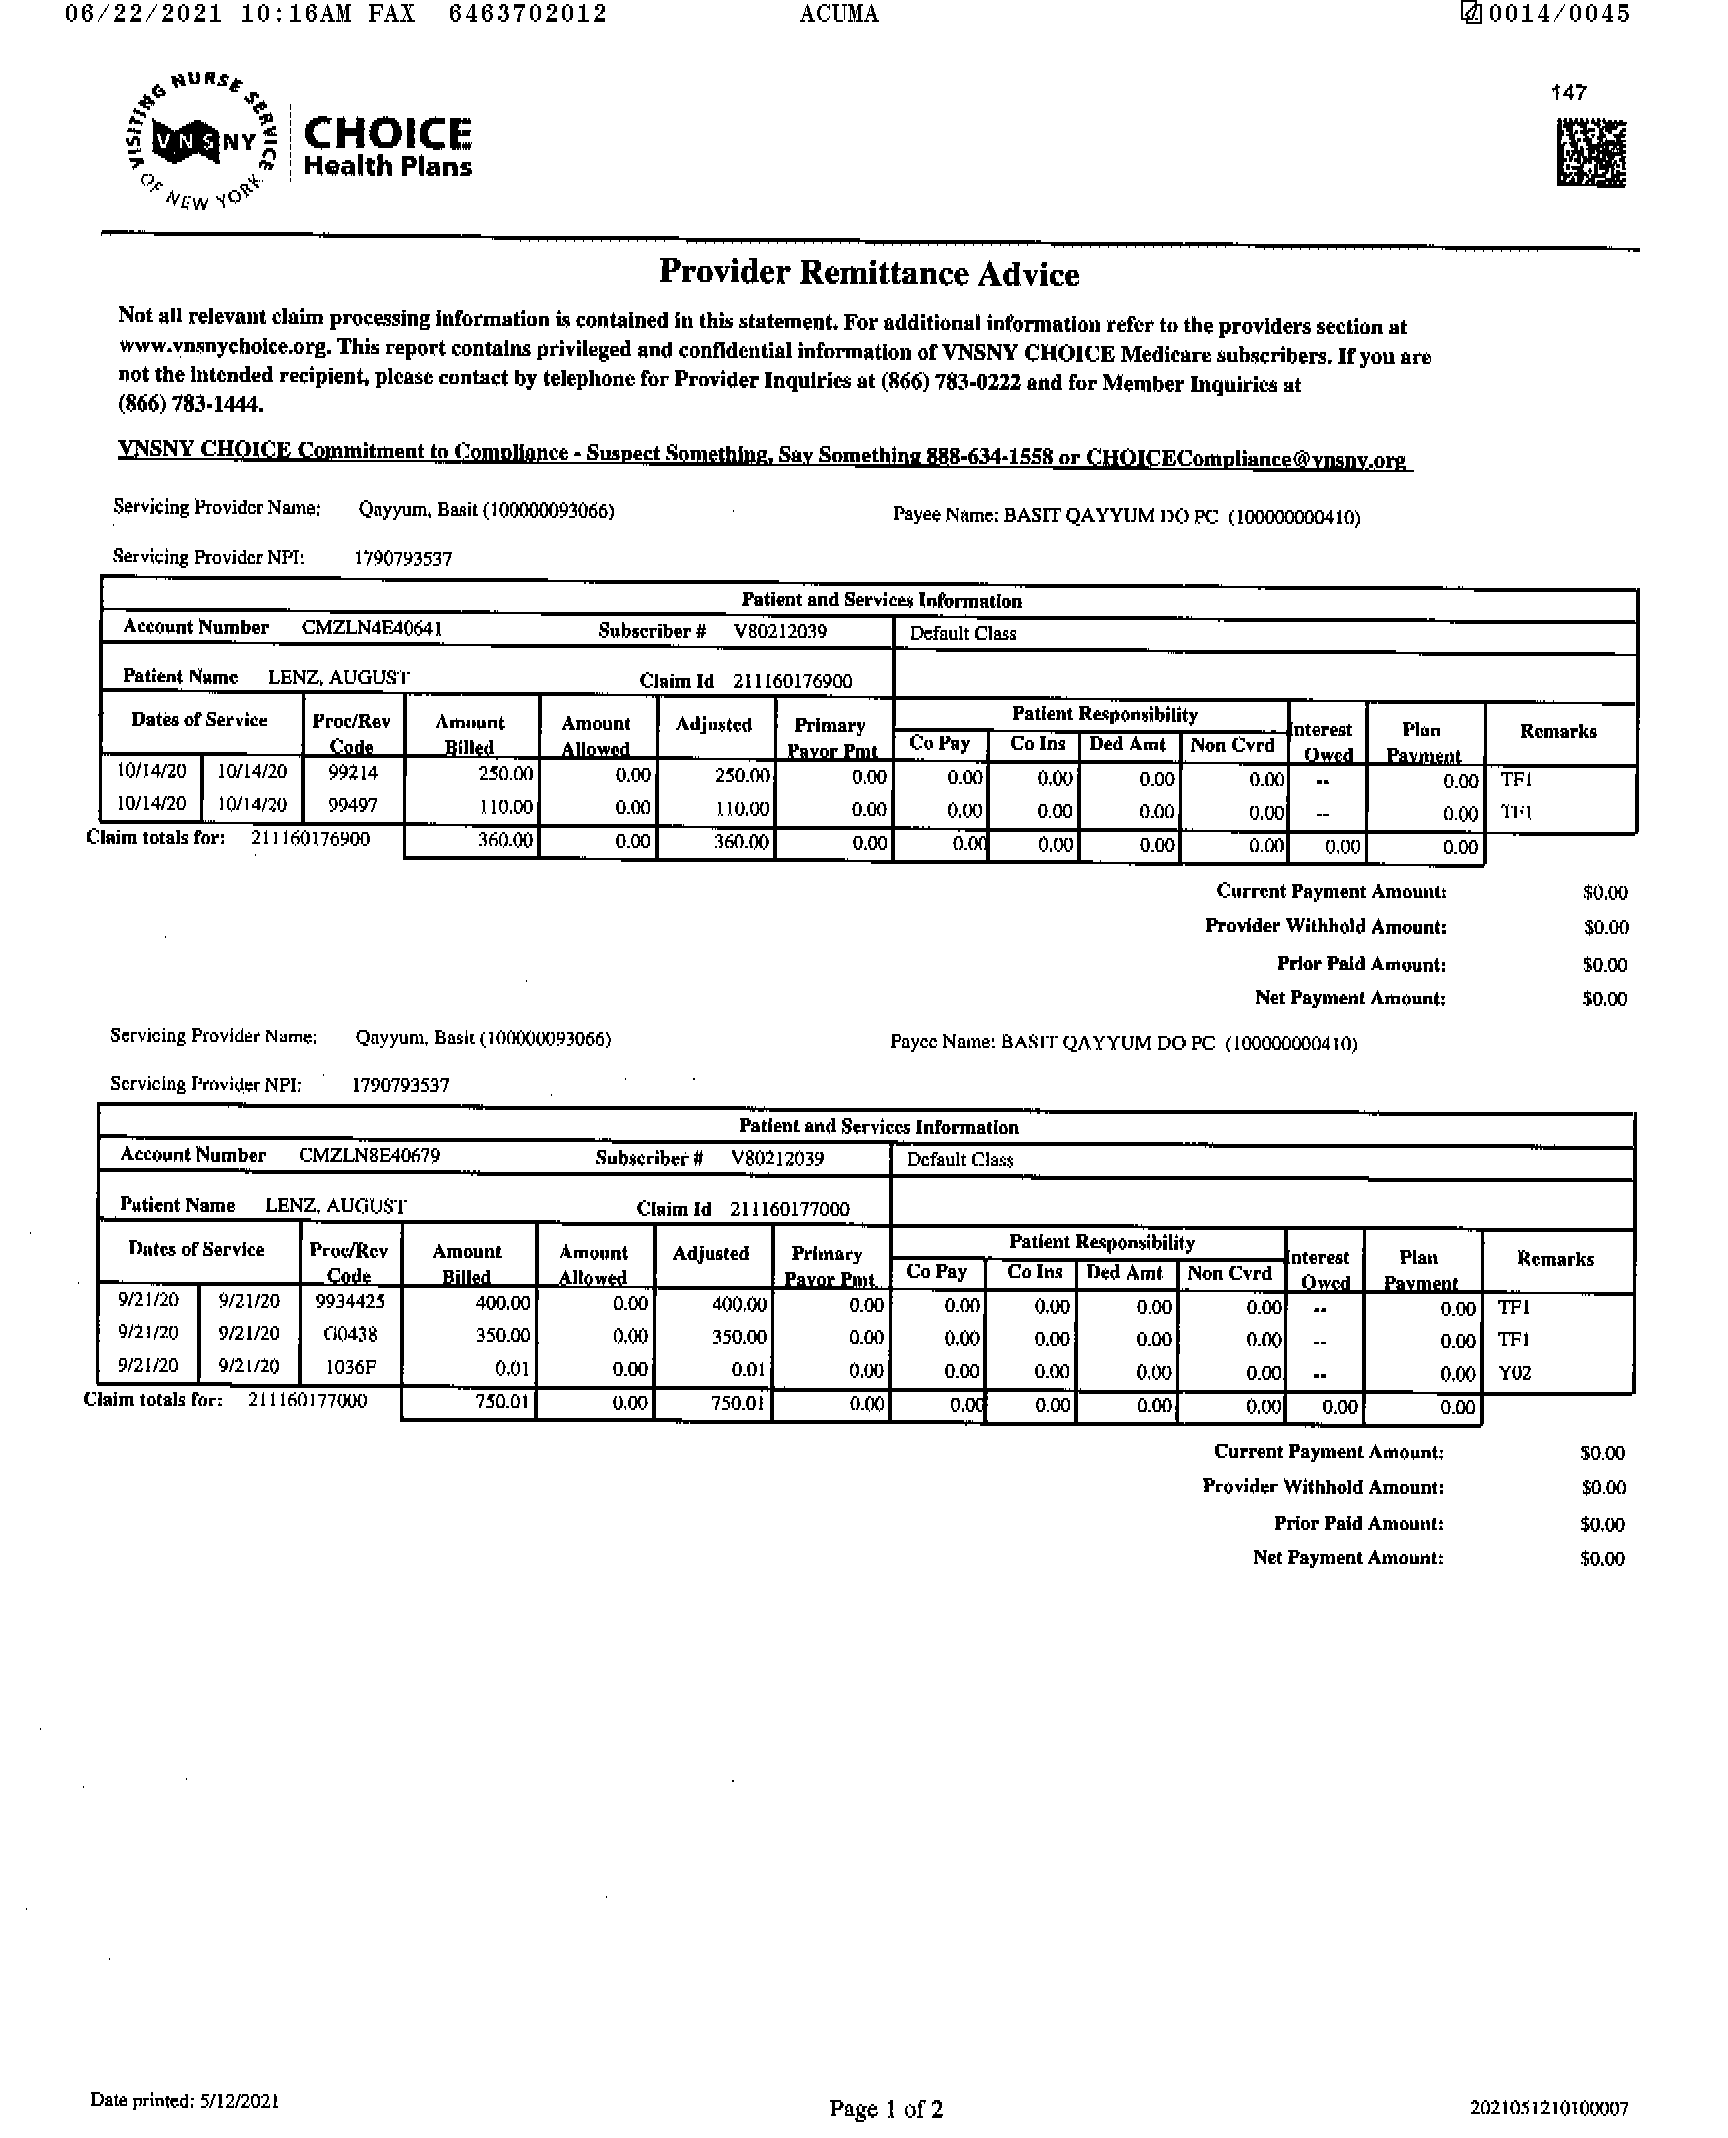table: (81, 1088, 1657, 1435), (81, 569, 1652, 881)
